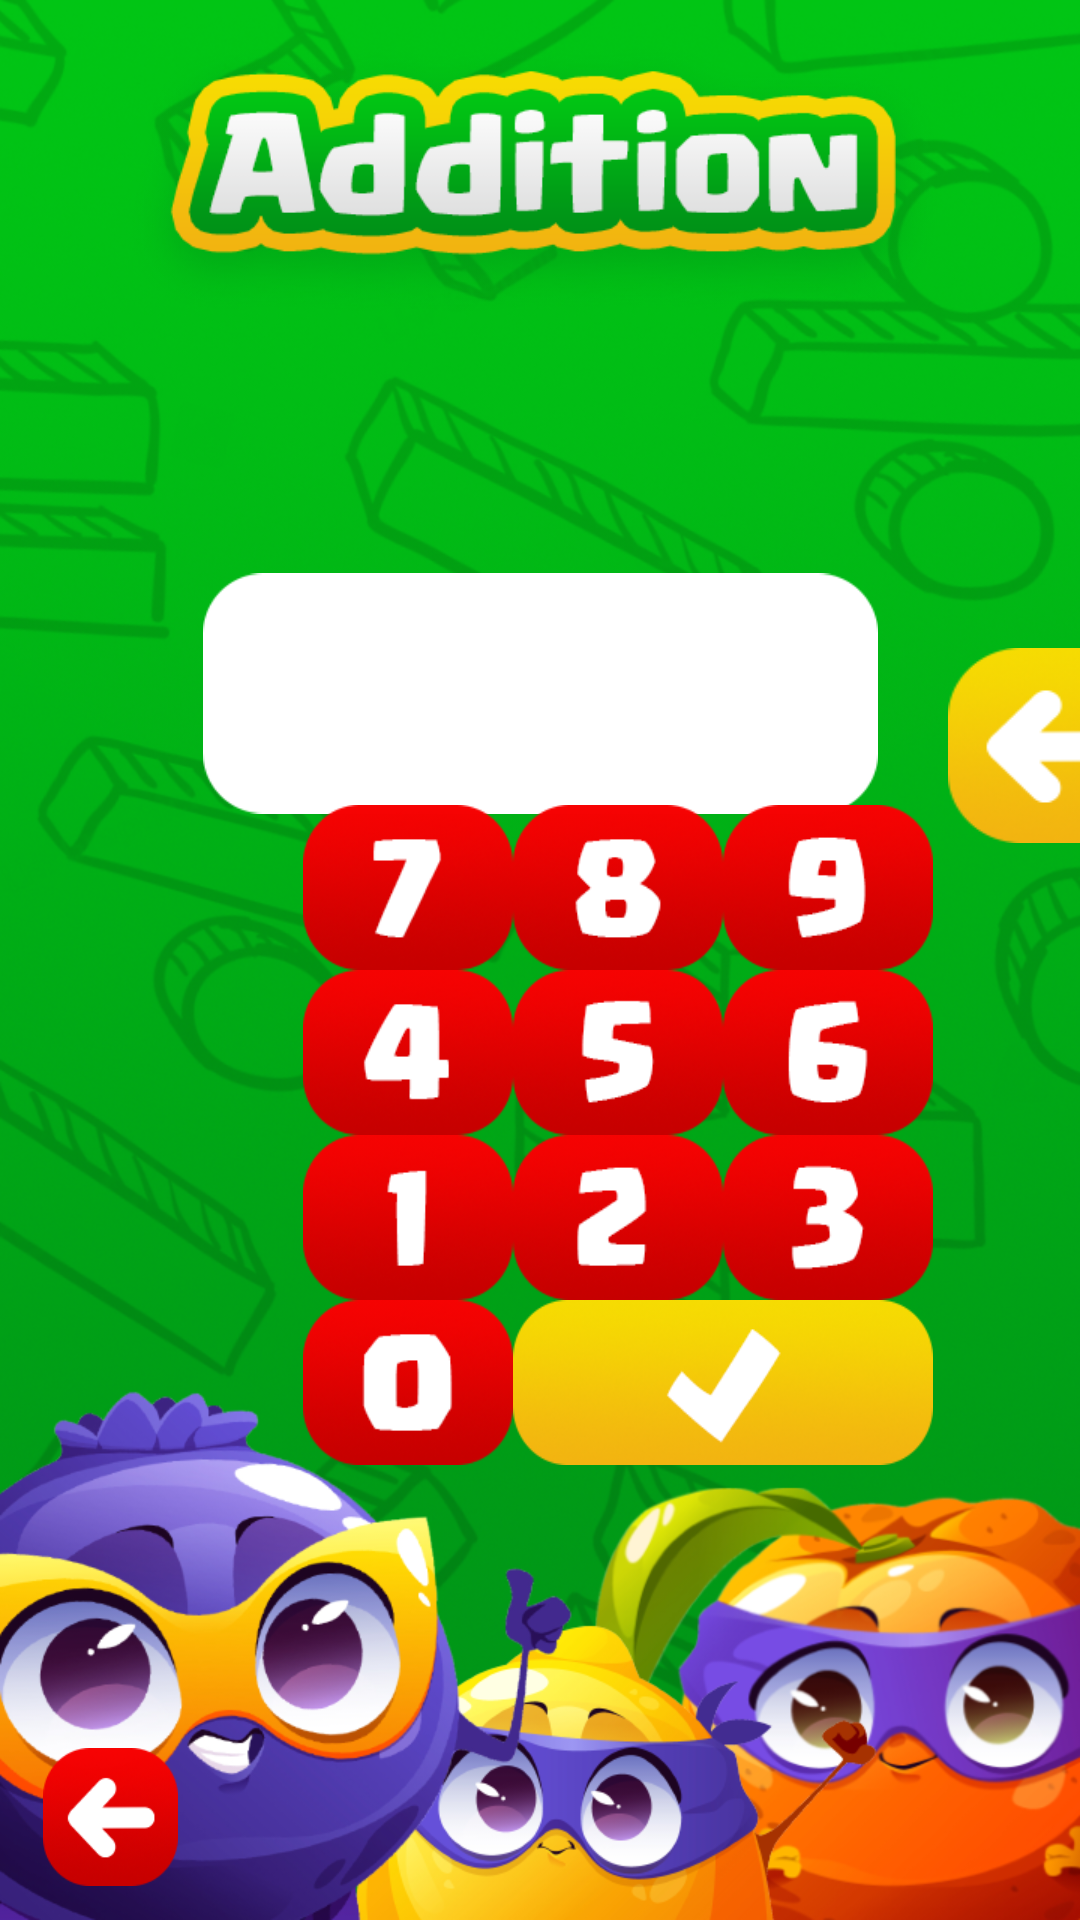

Where to tap for icons on this 1080 × 1920 app screen, as [x,y]:
eight: [618,887]
nine: [828,887]
seven: [408,887]
six: [828,1052]
zero: [408,1382]
